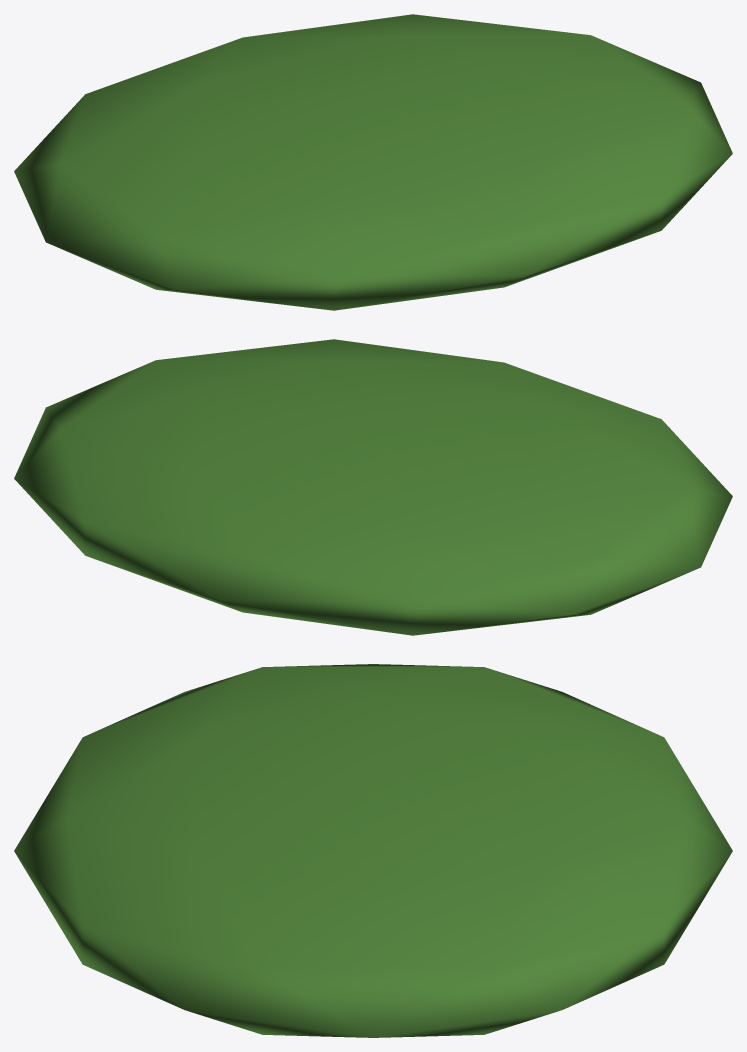
Rendered from clover.34f598ff.glb.
3 renders of one model, top to bottom at view 1: azimuth 30°, elevation 25°; view 2: azimuth 150°, elevation 25°; view 3: azimuth 270°, elevation 25°, orthographic. The views are drawn at different scales.
Visible parts, largest first — view 1: body; view 2: body; view 3: body.
Boxes of the visible parts, x1,y1,x2,y2 form: body: [14, 14, 732, 310]; body: [14, 339, 732, 635]; body: [14, 664, 732, 1037].
Bounding box in the file's own units: 0.16 × 0.026 × 0.13.
